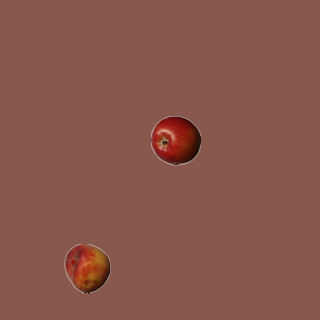Apple Braeburn: (150, 115, 200, 165)
Peach: (62, 243, 112, 293)
